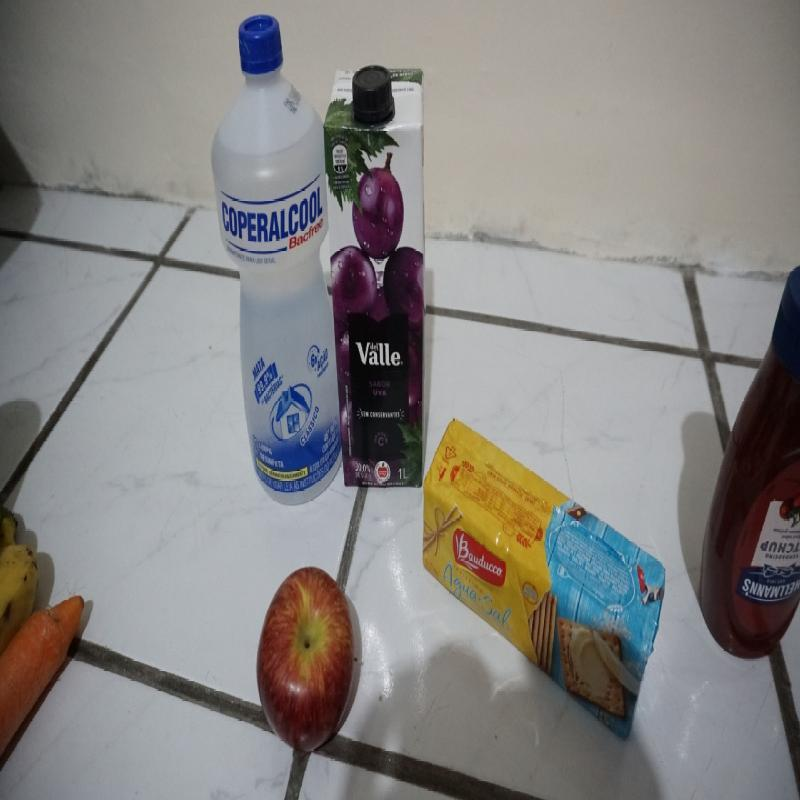Alcohol Bottle: (212, 14, 328, 504)
Apple: (250, 563, 358, 754)
Carrot: (2, 594, 84, 758)
Cracker: (421, 417, 668, 737)
Ketchup: (700, 264, 800, 658)
